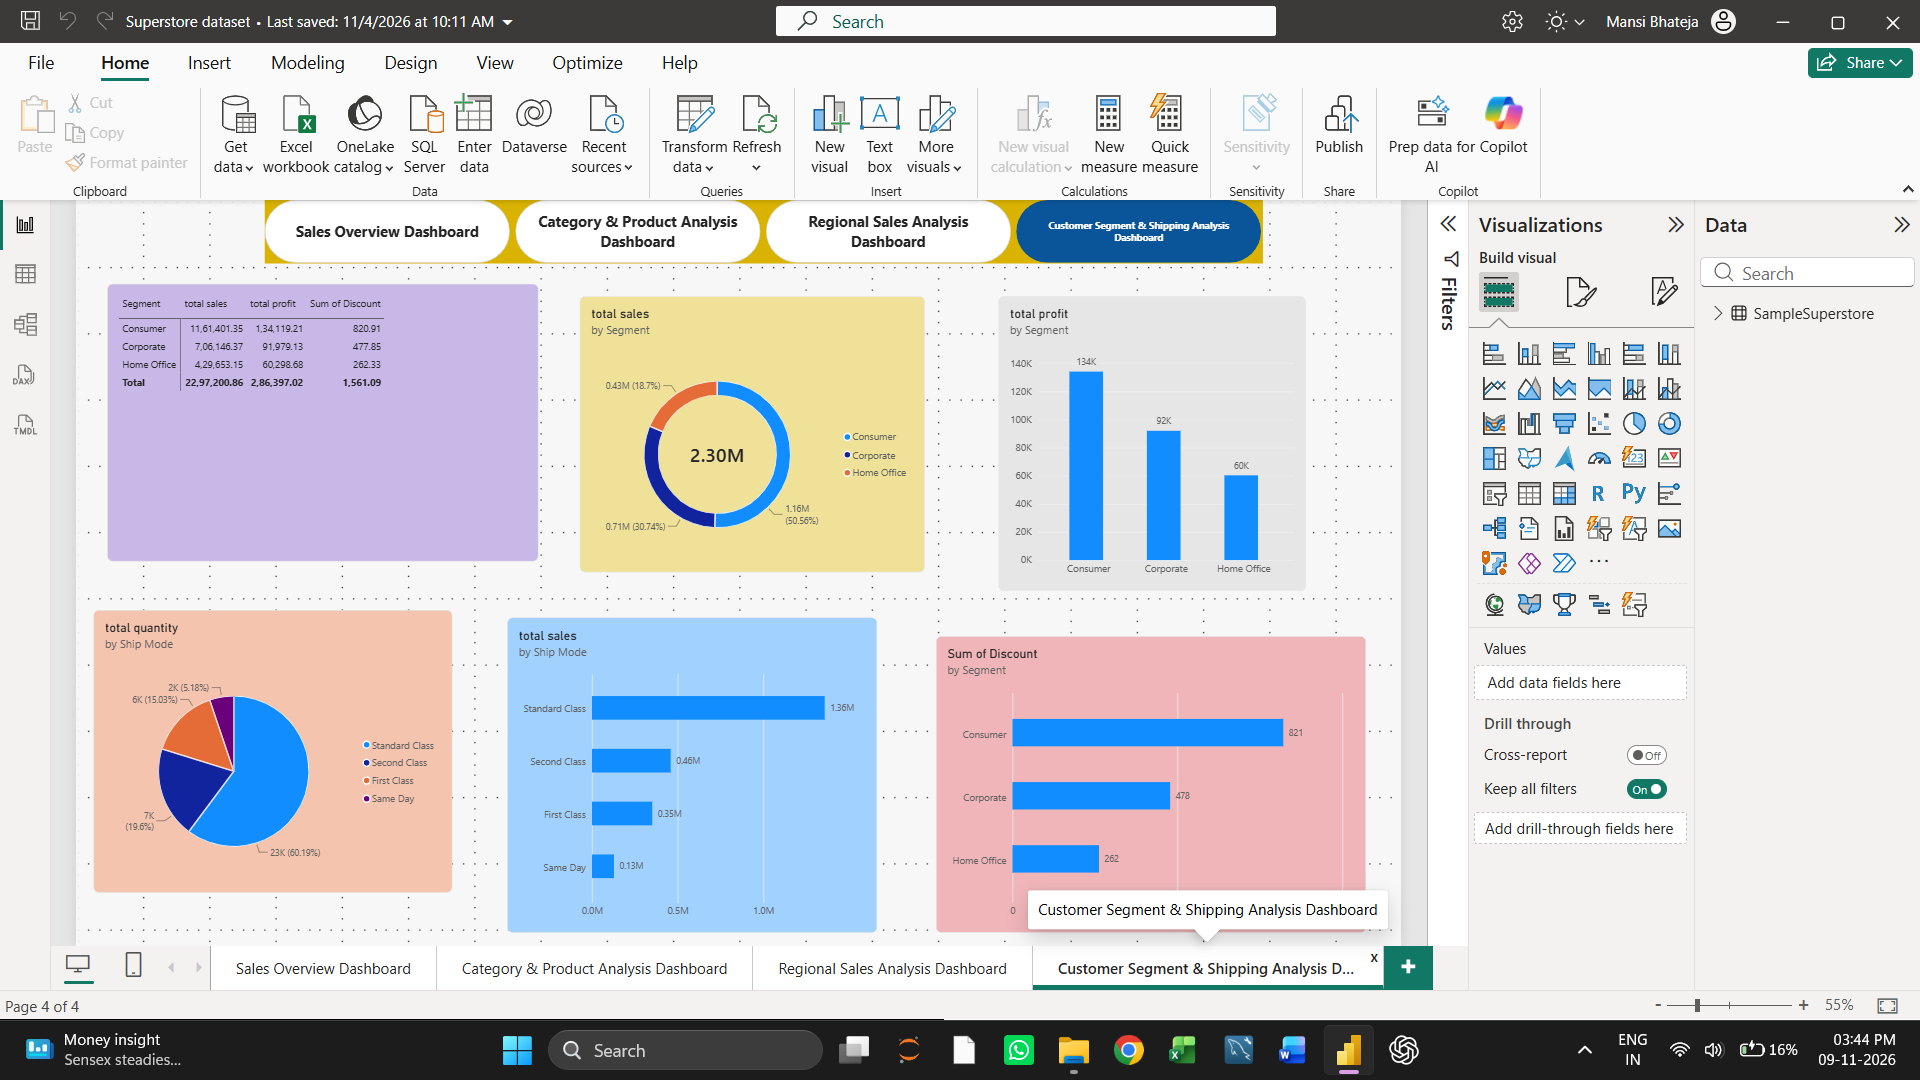

The page's visual inventory and layout, read from the dashboard file:
{"tool":"powerbi","page":{"name":"Customer Segment & Shipping Analysis Dashboard","canvas":[1920,1080],"ordinal":3},"visuals":[{"type":"pageNavigator","box":[273.4,0,1446.3,91.8],"z":0},{"type":"donutChart","fields":{"Category":["SampleSuperstore.Segment"],"Y":["SampleSuperstore.total sales"]},"box":[730,139.5,499.9,400.3],"z":1},{"type":"barChart","fields":{"Category":["SampleSuperstore.Segment"],"Y":["Sum(SampleSuperstore.Discount)"]},"box":[1246.2,632.2,623.1,429.3],"z":2},{"type":"pieChart","fields":{"Category":["SampleSuperstore.Ship Mode"],"Y":["SampleSuperstore.total quantity"]},"box":[25.4,594.1,519.8,409.4],"z":3},{"type":"columnChart","fields":{"Category":["SampleSuperstore.Segment"],"Y":["SampleSuperstore.total profit"]},"box":[1336.8,139.5,445.6,427.5],"z":4},{"type":"pivotTable","fields":{"Rows":["SampleSuperstore.Segment"],"Values":["SampleSuperstore.total sales","SampleSuperstore.total profit","Sum(SampleSuperstore.Discount)"]},"box":[45.3,121.4,624.9,402.1],"z":5},{"type":"barChart","fields":{"Category":["SampleSuperstore.Ship Mode"],"Y":["SampleSuperstore.total sales"]},"box":[624.9,605,536.2,456.5],"z":6}]}

Visuals, with their boxes on the page's 1920x1080 design canvas (x1, y1, x2, y2). These are canvas units, not pixel positions in the 1920x1080 screenshot, which may show the page scaled, cropped or inside an application window:
pageNavigator: 273 0 1720 92
donutChart - SampleSuperstore.Segment x SampleSuperstore.total sales: 730 140 1230 540
barChart - SampleSuperstore.Segment x Sum(SampleSuperstore.Discount): 1246 632 1869 1062
pieChart - SampleSuperstore.Ship Mode x SampleSuperstore.total quantity: 25 594 545 1004
columnChart - SampleSuperstore.Segment x SampleSuperstore.total profit: 1337 140 1782 567
pivotTable - SampleSuperstore.Segment x SampleSuperstore.total sales: 45 121 670 524
barChart - SampleSuperstore.Ship Mode x SampleSuperstore.total sales: 625 605 1161 1062
